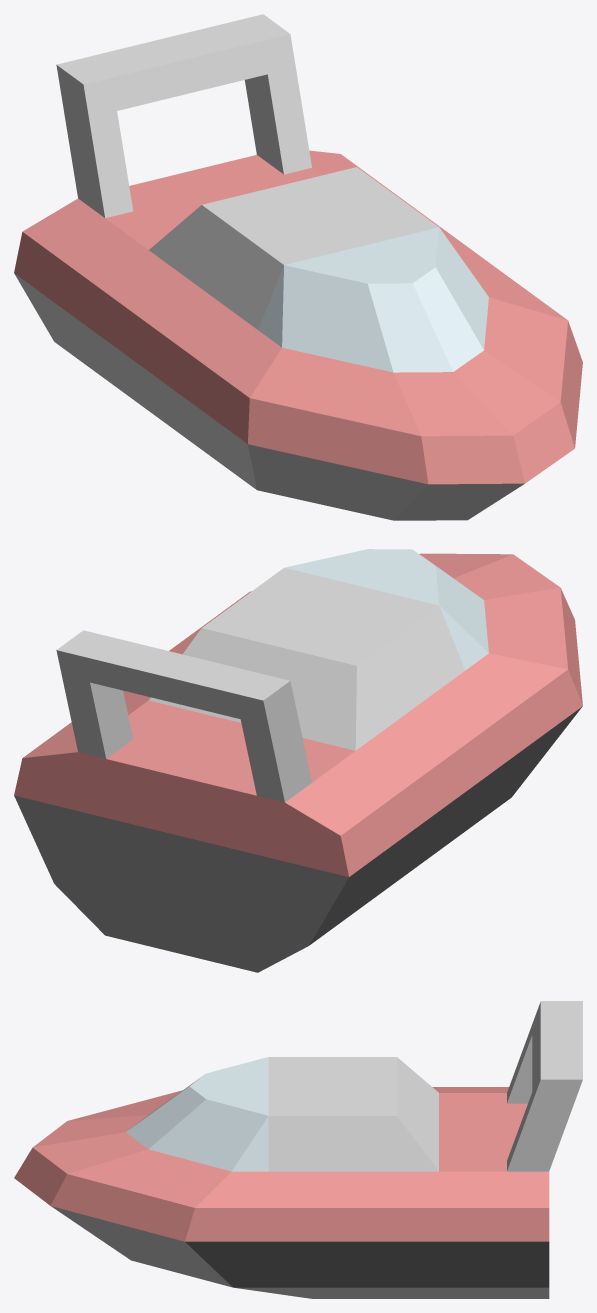
The model's file is watercraftPack_018.gltf.
3 views of the same model, one above another, from view 1: azimuth 30°, elevation 25°; view 2: azimuth 150°, elevation 25°; view 3: azimuth 270°, elevation 25° (orthographic). The views are drawn at different scales.
Parts seen in each view (by area): view 1: Mesh1 Group1 Model; view 2: Mesh1 Group1 Model; view 3: Mesh1 Group1 Model.
Boxes of the visible parts, x1,y1,x2,y2 form: Mesh1 Group1 Model: [14, 14, 582, 520]; Mesh1 Group1 Model: [14, 549, 582, 972]; Mesh1 Group1 Model: [14, 1001, 582, 1298].
Size of the model in its own units: 1.78 by 1.5 by 3.37.
